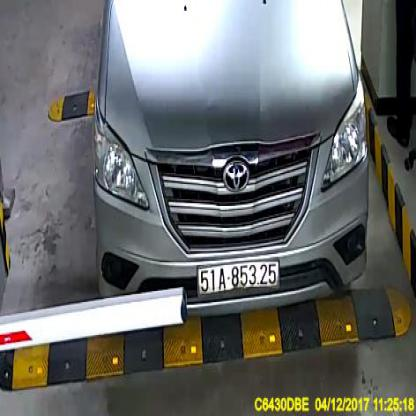biensoxe: (198, 258, 280, 298)
